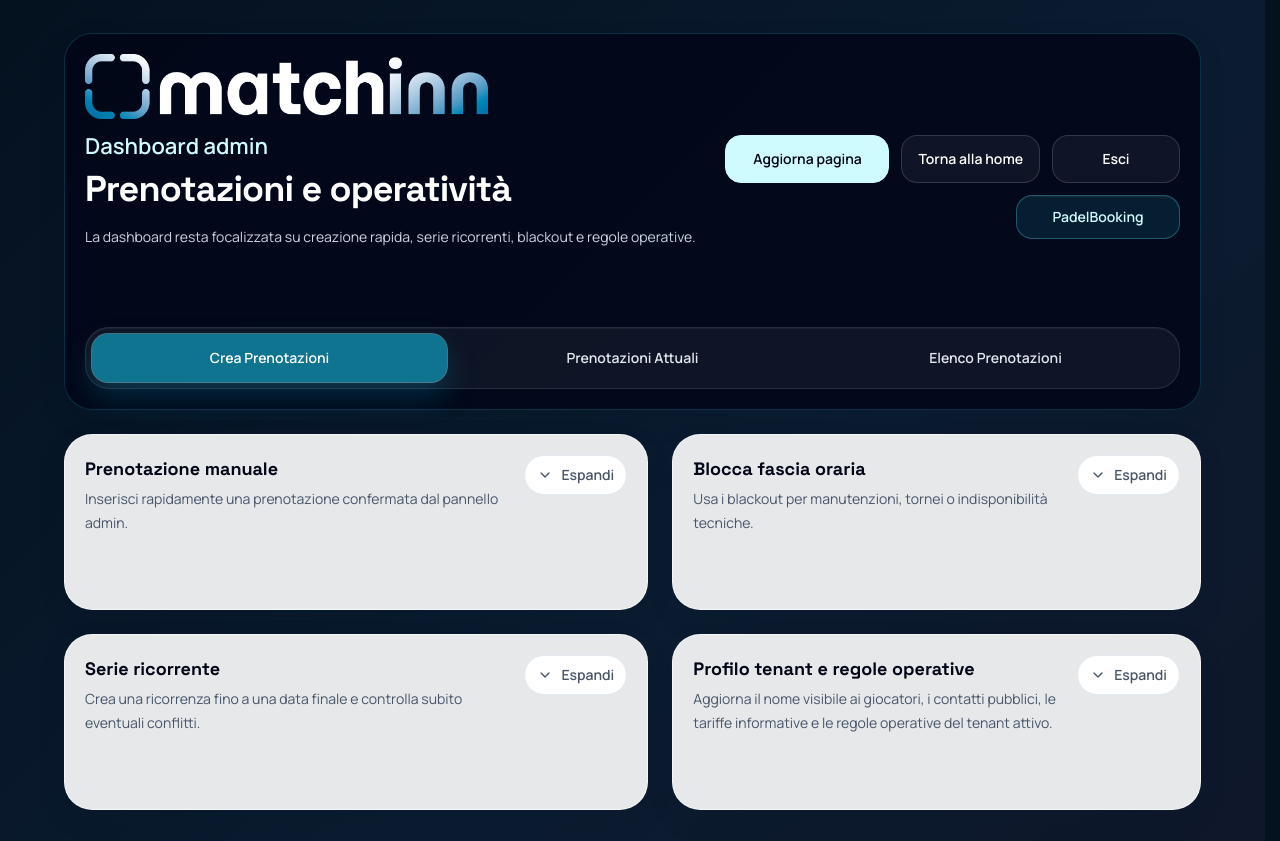
Test: AdminDashboardPage › paginates community invites 10 at a time with previous and next buttons
Expected: the text "Dashboard admin" is shown, [85, 131, 268, 161]
Click the button with aria-label "Espandi Profilo tenant e regole operative": (1129, 675) [1077, 655, 1180, 695]
(page scrolled)
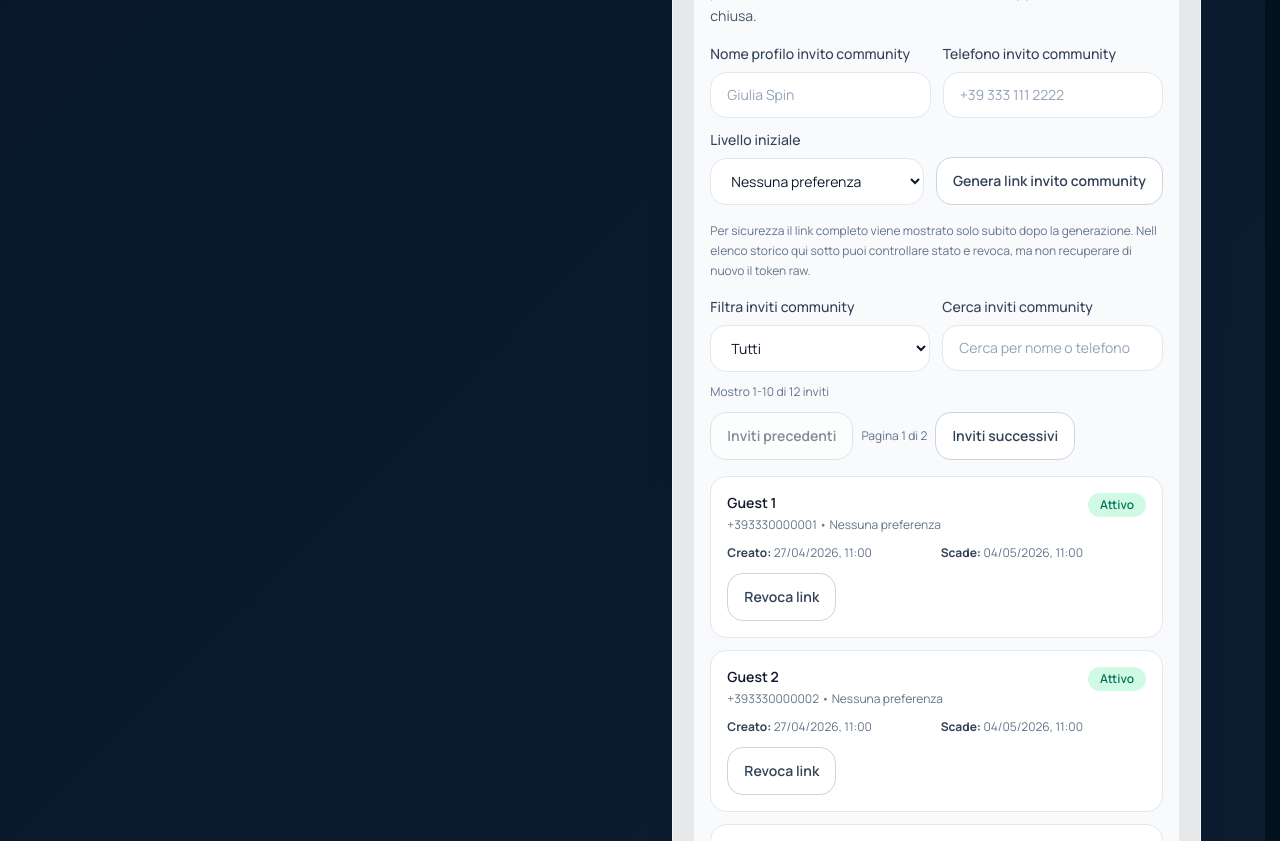
Expected: the text "Guest 1" is shown, [727, 493, 776, 512]
Expected: the text "Mostro 1-10 di 12 inviti" is shown, [710, 384, 829, 400]
Expected: the text "Pagina 1 di 2" is shown, [861, 428, 927, 444]
Click the button "Inviti successivi": (1005, 436) [935, 412, 1075, 460]
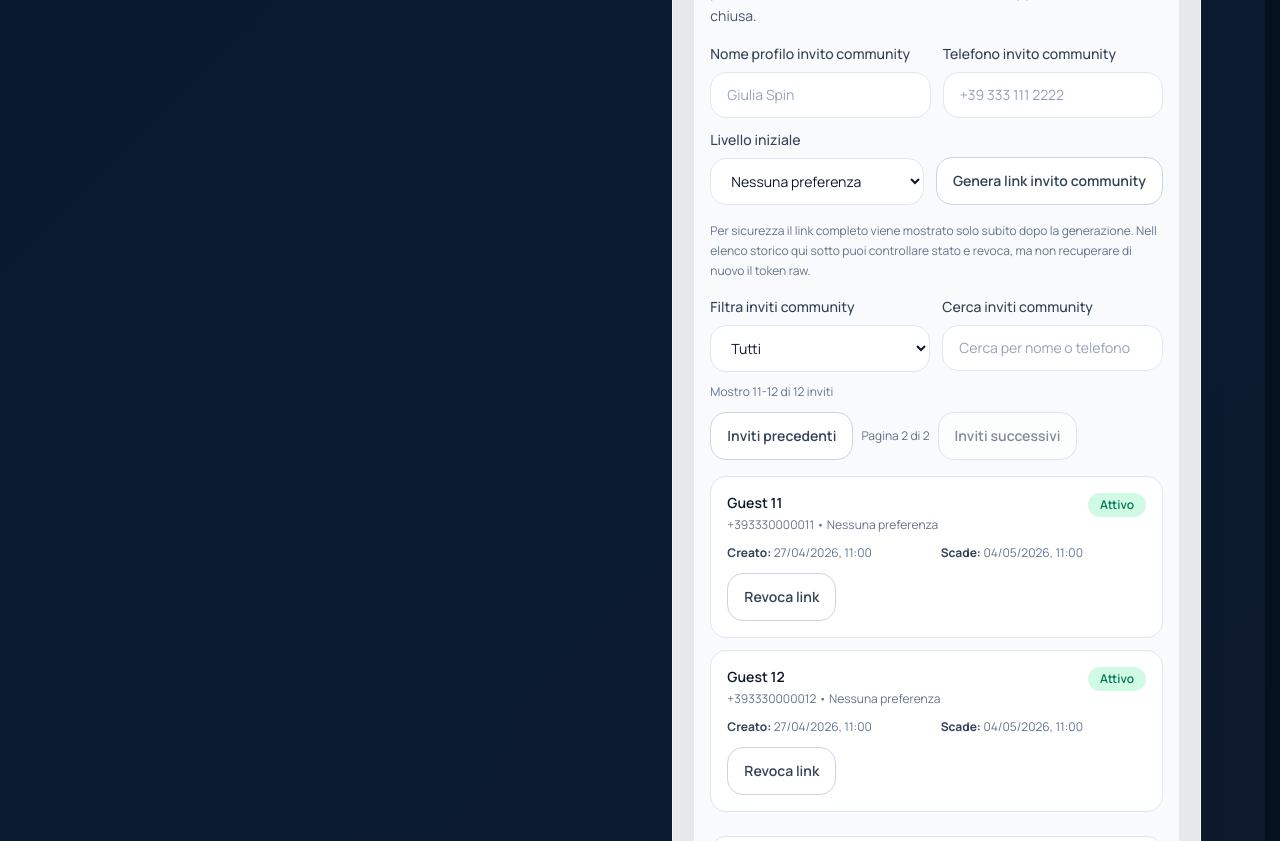
Expected: the text "Guest 11" is shown, [727, 493, 782, 512]
Expected: the text "Guest 12" is shown, [727, 667, 785, 686]
Expected: the text "Mostro 11-12 di 12 inviti" is shown, [710, 384, 833, 400]
Click the button "Inviti precedenti": (782, 436) [710, 412, 853, 460]
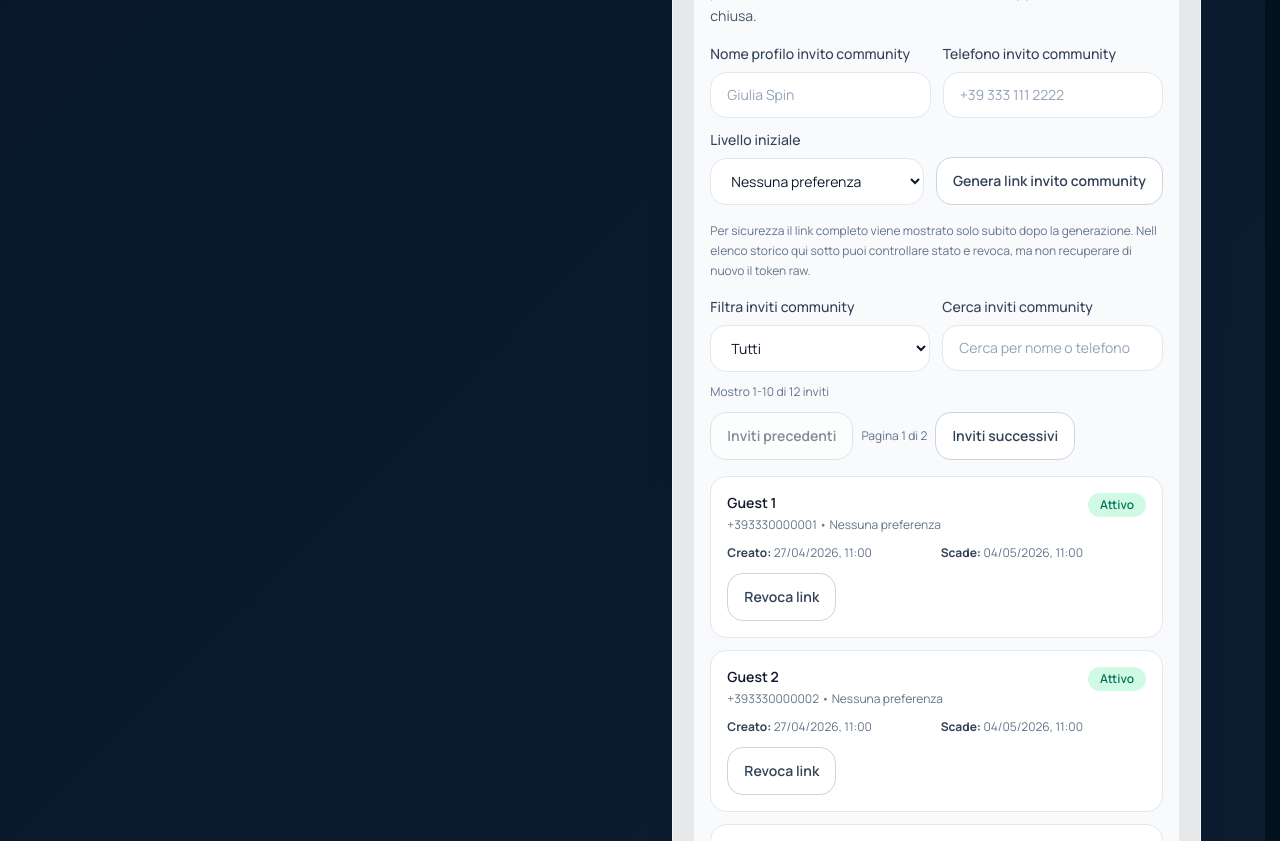
Expected: the text "Guest 1" is shown, [727, 493, 776, 512]
Expected: the text "Guest 11" is gone
Expected: the text "Pagina 1 di 2" is shown, [861, 428, 927, 444]
